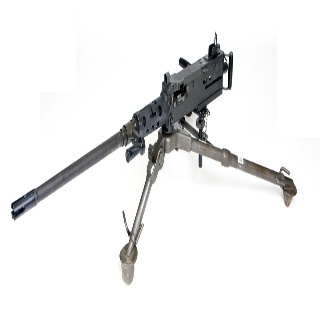rifle: (10, 36, 297, 286)
